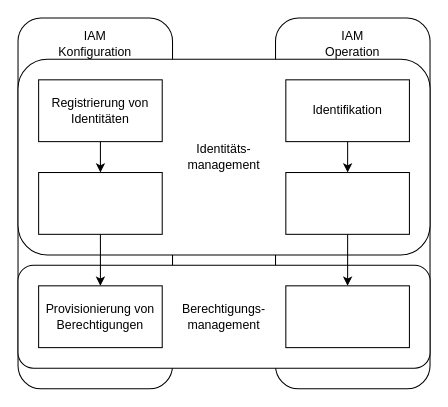
The diagram is 448 pixels wide and 407 high, and some of its shapes have lost their labels. The centre of each missing label's shape, as x and y in pixels:
"Authentifizierung" belongs at [347,202].
"Authorisierung" belongs at [347,316].
"Provisionierung von Zugangsdaten" belongs at [100,202].
